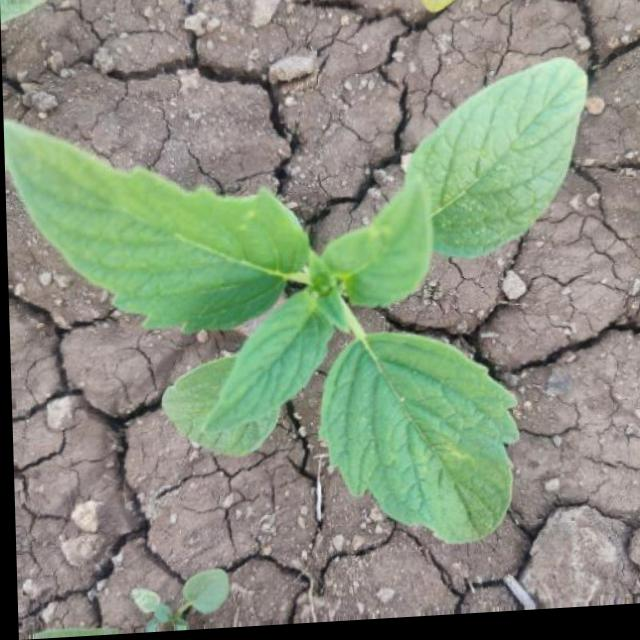crop: (4, 74, 605, 554)
